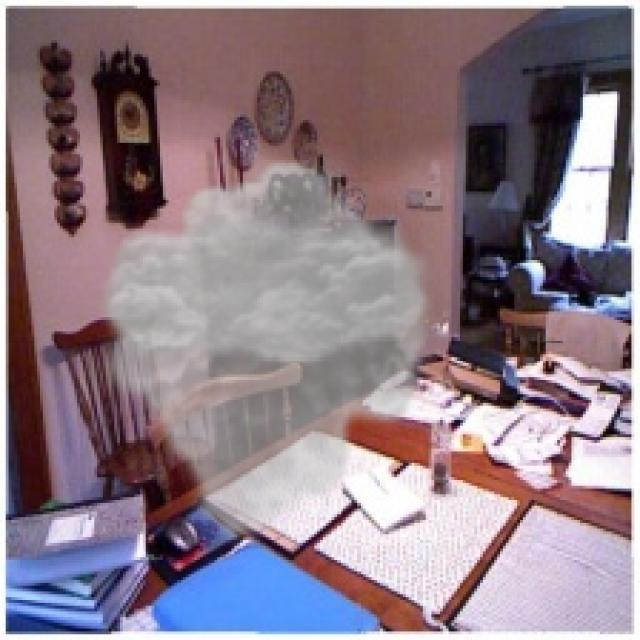Smoke: (91, 154, 440, 546)
